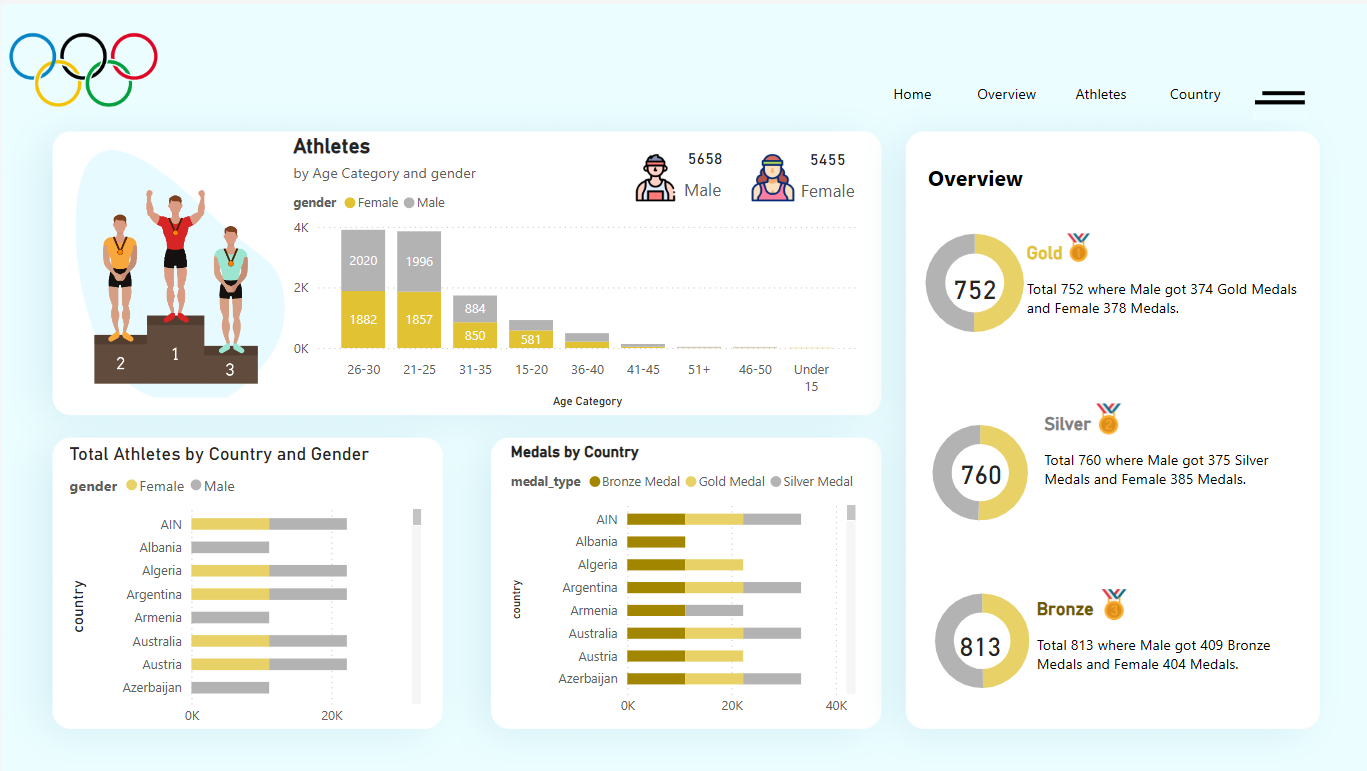

The page's visual inventory and layout, read from the dashboard file:
{"tool":"powerbi","page":{"name":"Athletes","canvas":[1280,720],"ordinal":2},"visuals":[{"type":"columnChart","title":"Athletes","fields":{"Category":["athletes.Age Category"],"Y":["Olympics_measure.Total_Athletes"],"Series":["athletes.gender"]},"box":[270,121.2,535,260],"z":0},{"type":"barChart","title":"Total Athletes by Country and Gender","fields":{"Category":["medallists.country"],"Series":["medallists.gender"],"Y":["Olympics_measure.Total_Athletes"]},"box":[61.2,408.8,337.5,272.5],"z":1000},{"type":"barChart","title":"Medals by Country ","fields":{"Category":["medallists.country"],"Series":["medallists.medal_type"],"Y":["Olympics_measure.Total_Athletes"]},"box":[473.8,408.8,331.2,263.8],"z":2000},{"type":"card","title":"Gold","fields":{"Values":["Olympic_Measures.Total_Gold_medals"]},"box":[883.2,243,55,47.5],"z":3000},{"type":"card","fields":{"Values":["Olympics_measure.Total_Female_Athletes"]},"box":[723.8,123.8,100,67.5],"z":4000},{"type":"card","title":"Silver","fields":{"Values":["Olympic_Measures.Total_Silver_Medals"]},"box":[874.5,405.5,85,65],"z":5000},{"type":"card","title":"Bronze","fields":{"Values":["Olympic_Measures.Total_Bronze_Medals"]},"box":[873.2,574.3,86.2,47.5],"z":6000},{"type":"image","box":[989.5,205.5,36.2,43.8],"z":7000},{"type":"donutChart","title":"Gold","fields":{"Y":["Olympics_measure.Total_Gold_Medals"],"Series":["athletes.gender"]},"box":[832.5,177.5,157.5,166.2],"z":8000},{"type":"image","box":[1017.5,541.2,46.2,38.8],"z":9000},{"type":"donutChart","title":"Silver","fields":{"Y":["Olympics_measure.Total_Silver_Medals"],"Series":["athletes.gender"]},"box":[856.2,348.8,121.2,177.5],"z":10000},{"type":"donutChart","title":"Bronze","fields":{"Y":["Olympics_measure.Total_Bronze_Medals"],"Series":["athletes.gender"]},"box":[840,523.8,155,141.2],"z":11000},{"type":"shape","title":"Gold","box":[959.5,221.8,262.5,80],"z":12000},{"type":"shape","title":"Silver","box":[975.7,381.8,246.2,80],"z":13000},{"type":"image","box":[1017,361.8,38.8,51.2],"z":14000},{"type":"shape","title":"Bronze","box":[968.2,554.3,262.5,80],"z":15000},{"type":"shape","box":[867.5,146.2,343.8,31.2],"z":16000},{"type":"image","box":[0,112.5,322.5,260],"z":17000},{"type":"card","fields":{"Values":["Olympics_measure.Total_male_Athletes"]},"box":[613.8,125,92.5,63.8],"z":18000},{"type":"image","box":[586.2,135,53.8,53.8],"z":18001},{"type":"image","box":[696.2,135,53.8,53.8],"z":18002},{"type":"pageNavigator","box":[813.3,58.3,343.3,50],"z":18003},{"type":"actionButton","box":[1170,58.3,50,50],"z":18004},{"type":"image","box":[0,0,161.2,121.2],"z":18005}]}

Visuals, with their boxes in screenshot pixels (x1, y1, x2, y2), scaled from the page's 1280x720 canvas onto the 1367x771 screenshot:
"Athletes" columnChart: 288 130 860 408
"Total Athletes by Country and Gender" barChart: 65 438 426 730
"Medals by Country " barChart: 506 438 860 720
"Gold" card: 943 260 1002 311
card - Olympics_measure.Total_Female_Athletes: 773 133 880 205
"Silver" card: 934 434 1025 504
"Bronze" card: 933 615 1025 666
image: 1057 220 1095 267
"Gold" donutChart: 889 190 1057 368
image: 1087 580 1136 621
"Silver" donutChart: 914 374 1044 564
"Bronze" donutChart: 897 561 1063 712
"Gold" shape: 1025 238 1305 323
"Silver" shape: 1042 409 1305 495
image: 1086 387 1128 442
"Bronze" shape: 1034 594 1314 679
shape: 926 157 1294 190
image: 0 120 344 399
card - Olympics_measure.Total_male_Athletes: 656 134 754 202
image: 626 145 684 202
image: 744 145 801 202
pageNavigator: 869 62 1235 116
actionButton: 1250 62 1303 116
image: 0 0 172 130
